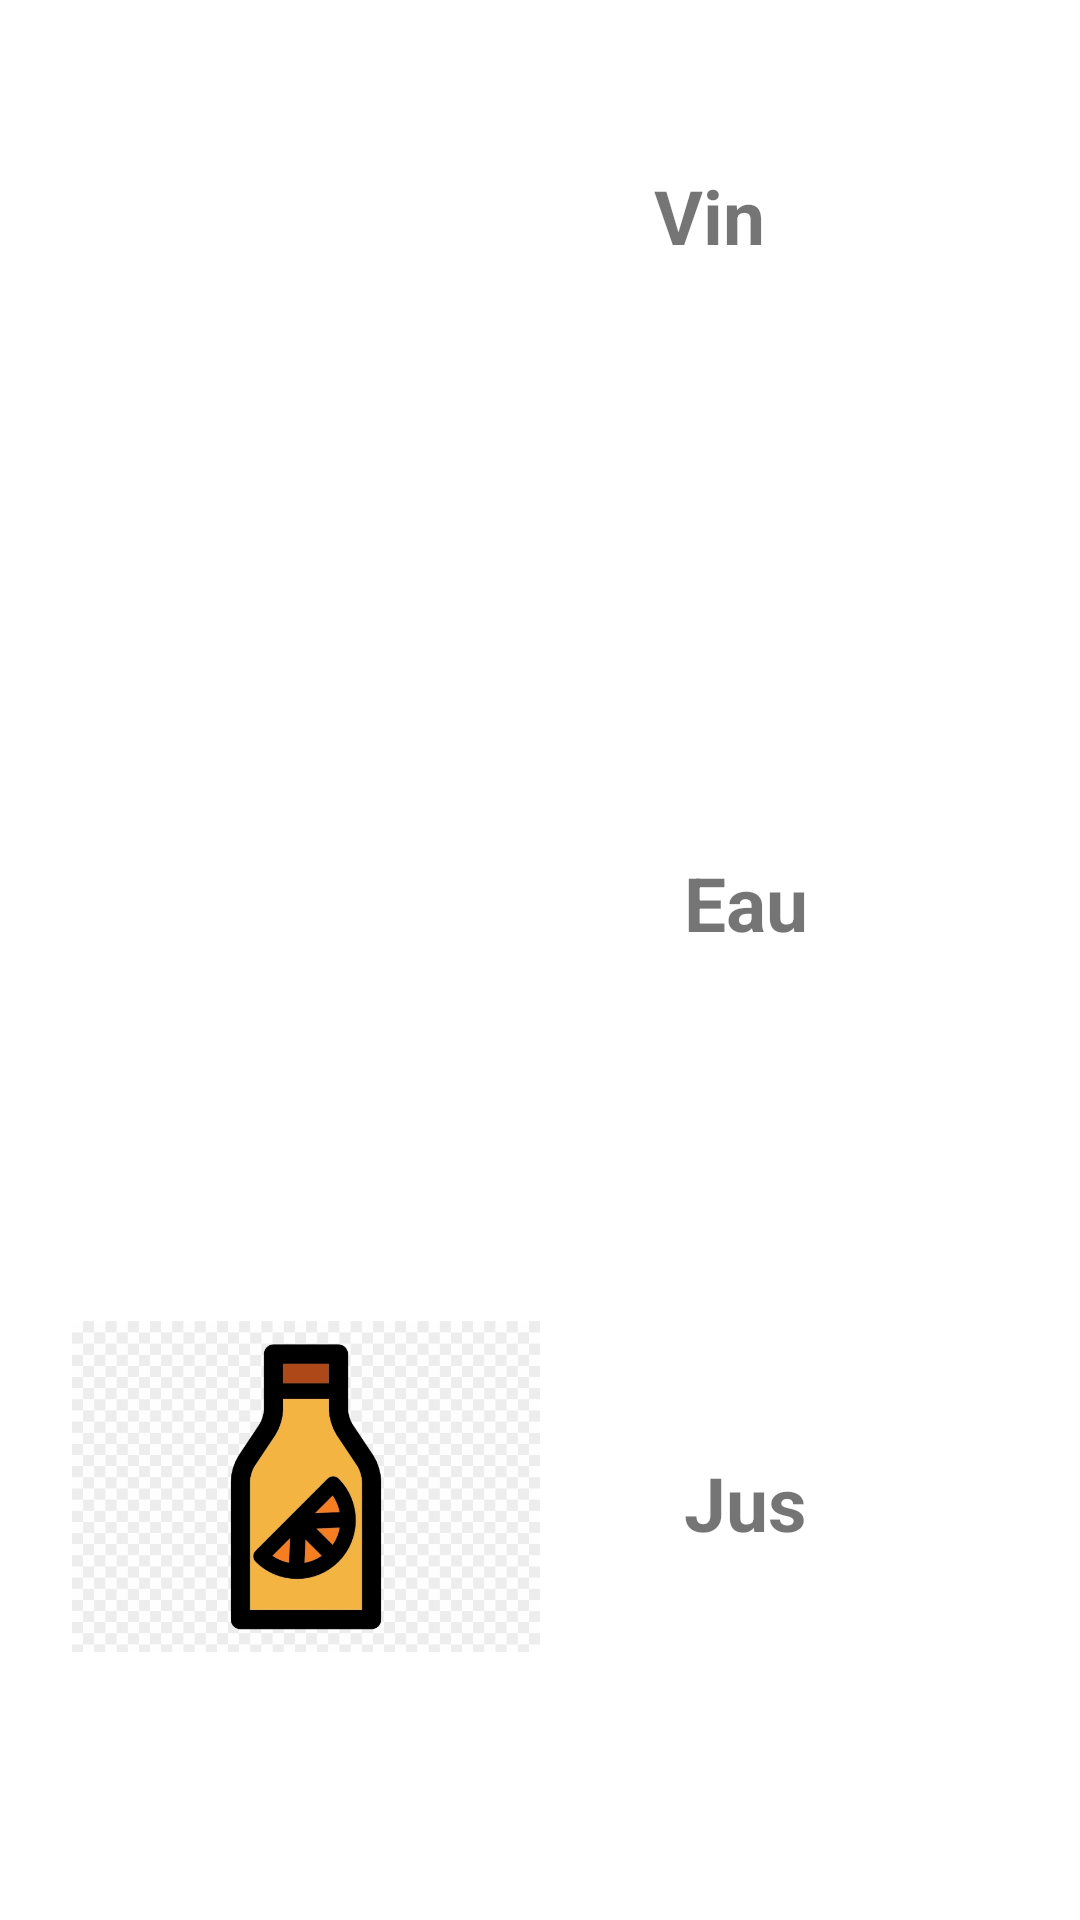

Icons on this 1080x1920 Android screen, each with the point to tap as (x,y):
boisson: (306,1487)
